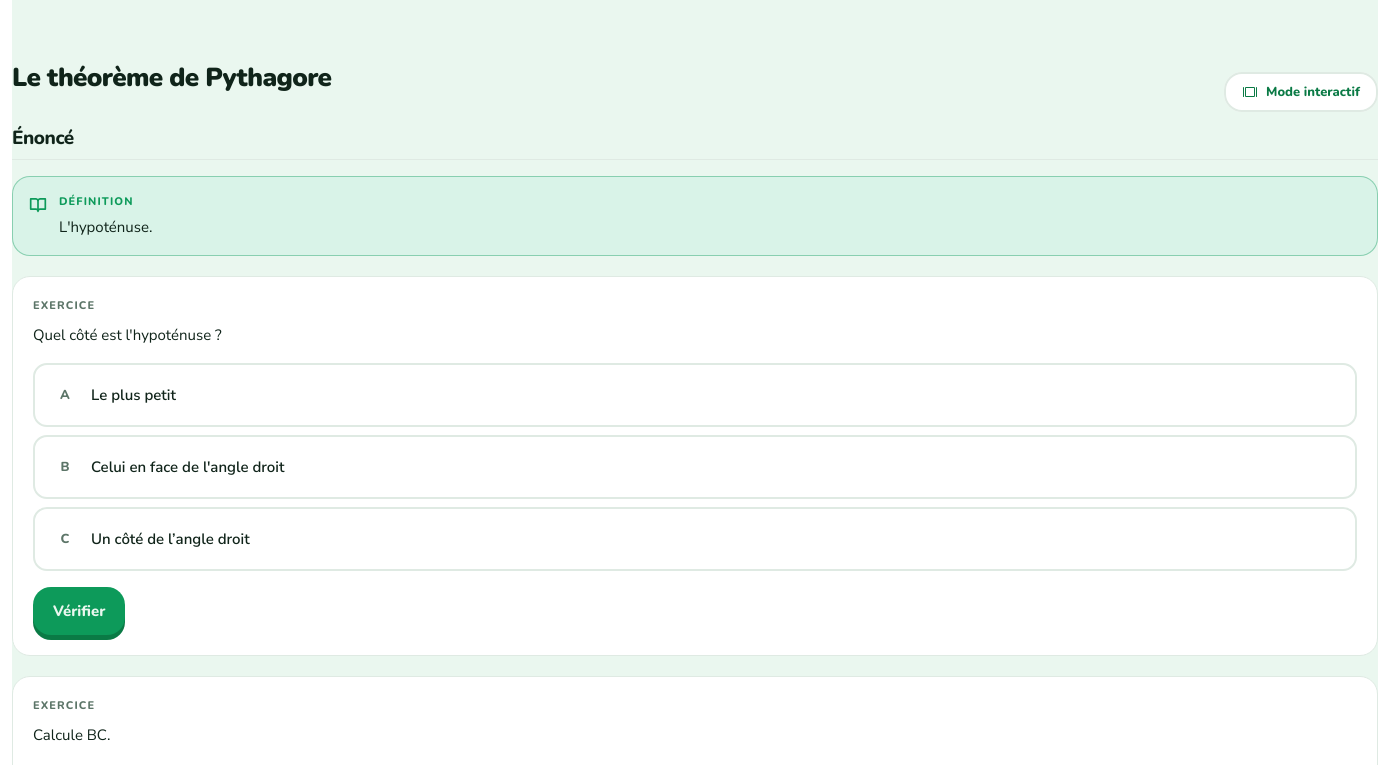
Scenario: interactive mode — a full-screen exercise › keeps the reading mode as it was: inline result, no sheet
Click the button "A Le plus petit" at (133, 395), box [33,363,1357,427]
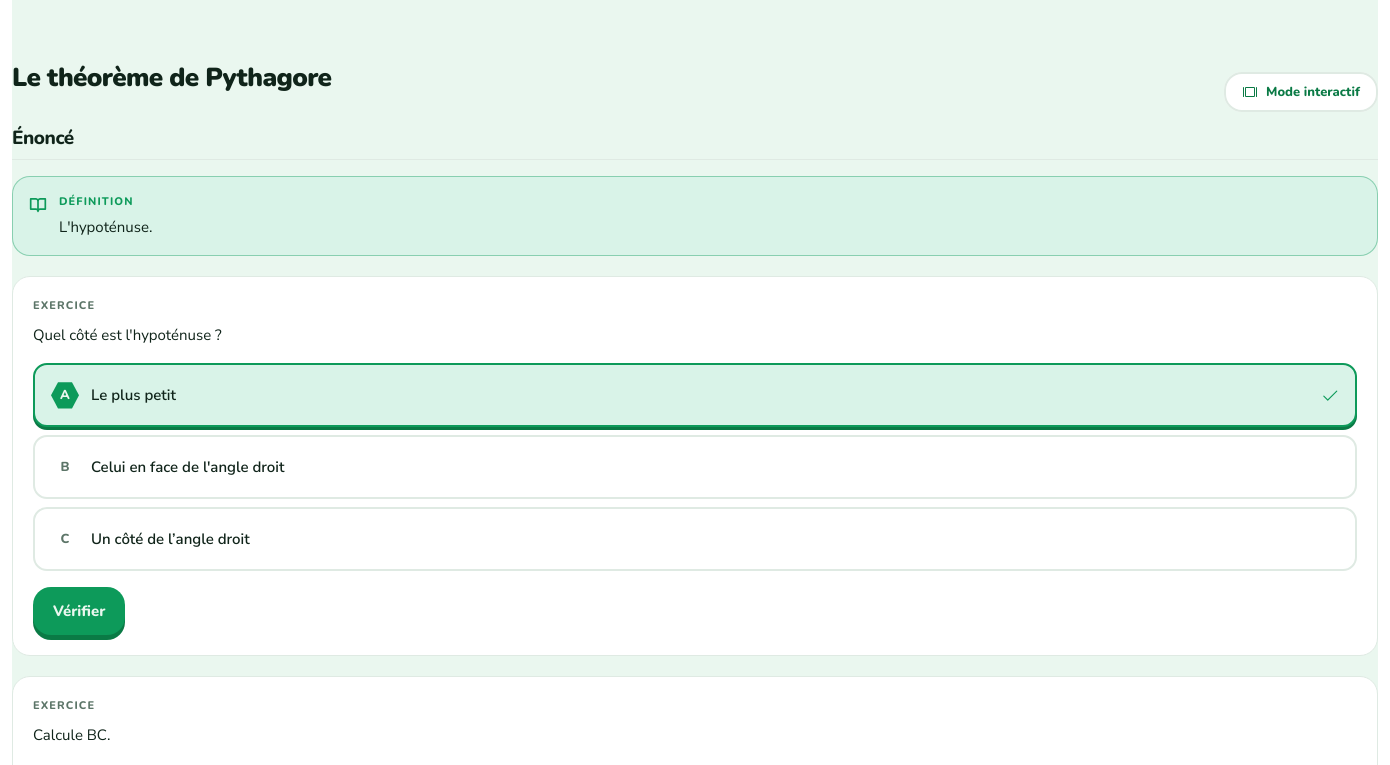
Click the button "Vérifier" at (79, 611), box [33,587,125,635]
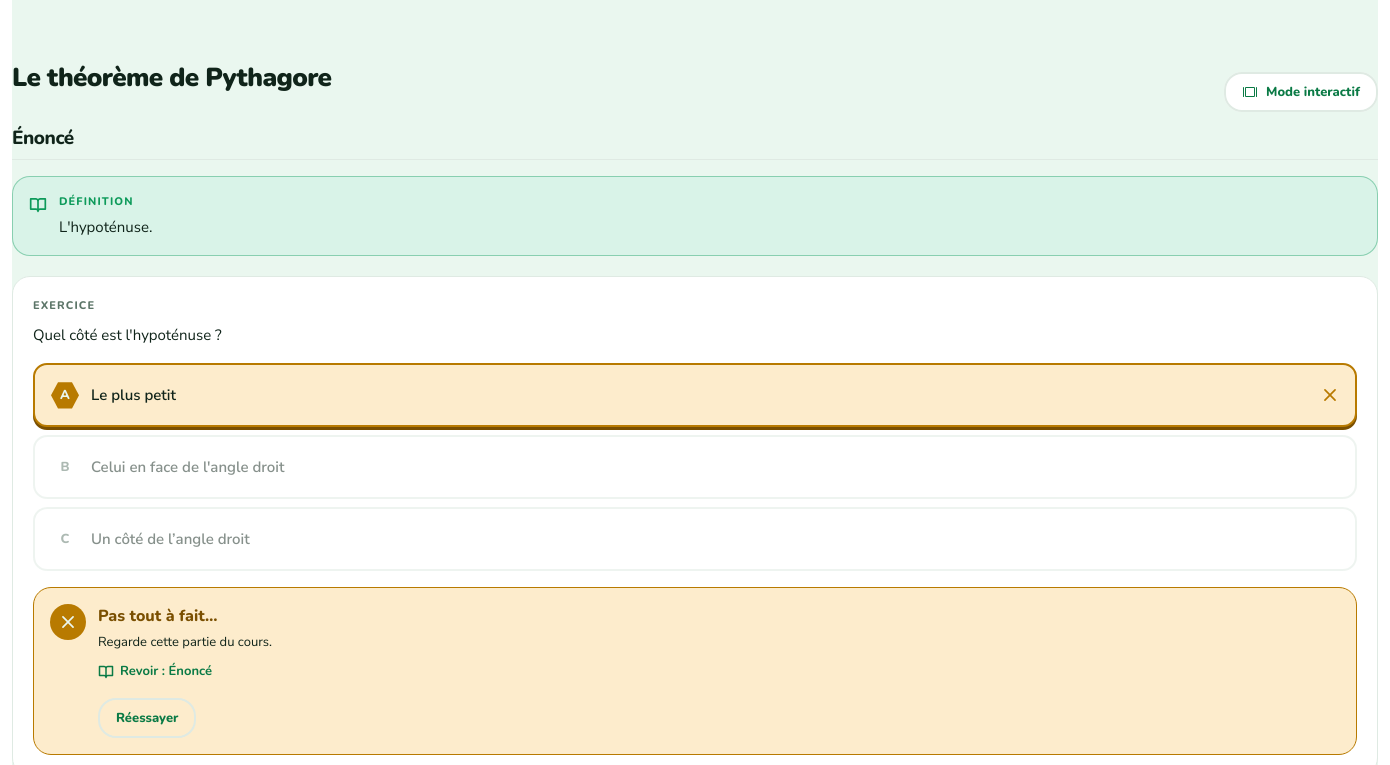
Expected: the text "Pas tout à fait…" is shown, [98,604,218,628]
